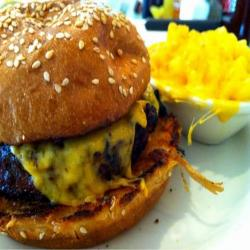burger: (3, 3, 175, 250)
